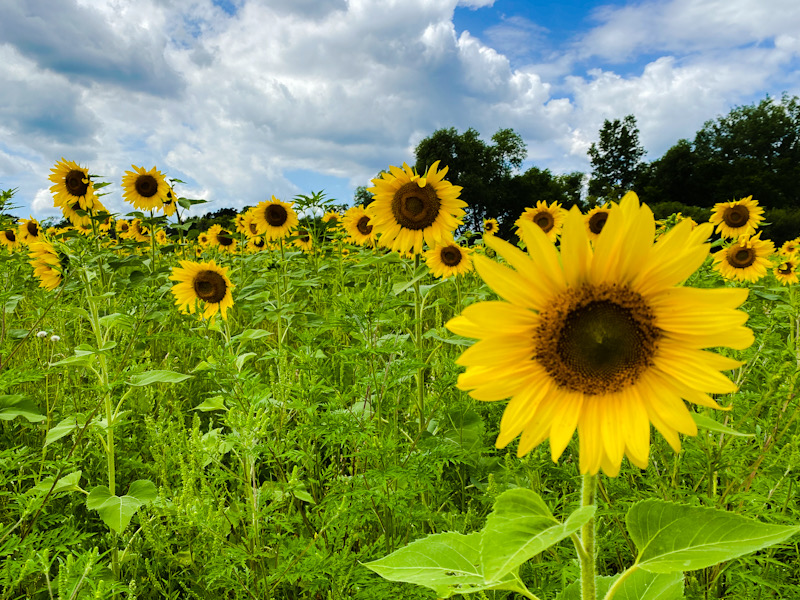Sunflower: (471, 203, 735, 463), (369, 163, 460, 253)
